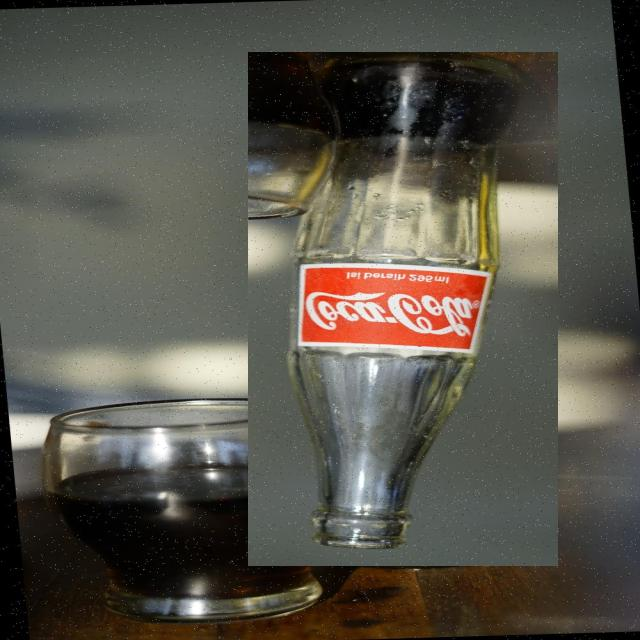coca-cola: (248, 52, 558, 566)
